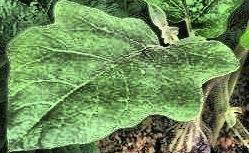HEALTHY: (1, 0, 249, 153)
